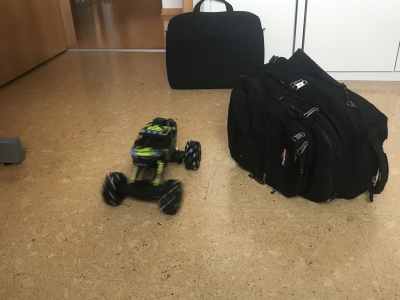remote control car: (100, 116, 202, 216)
